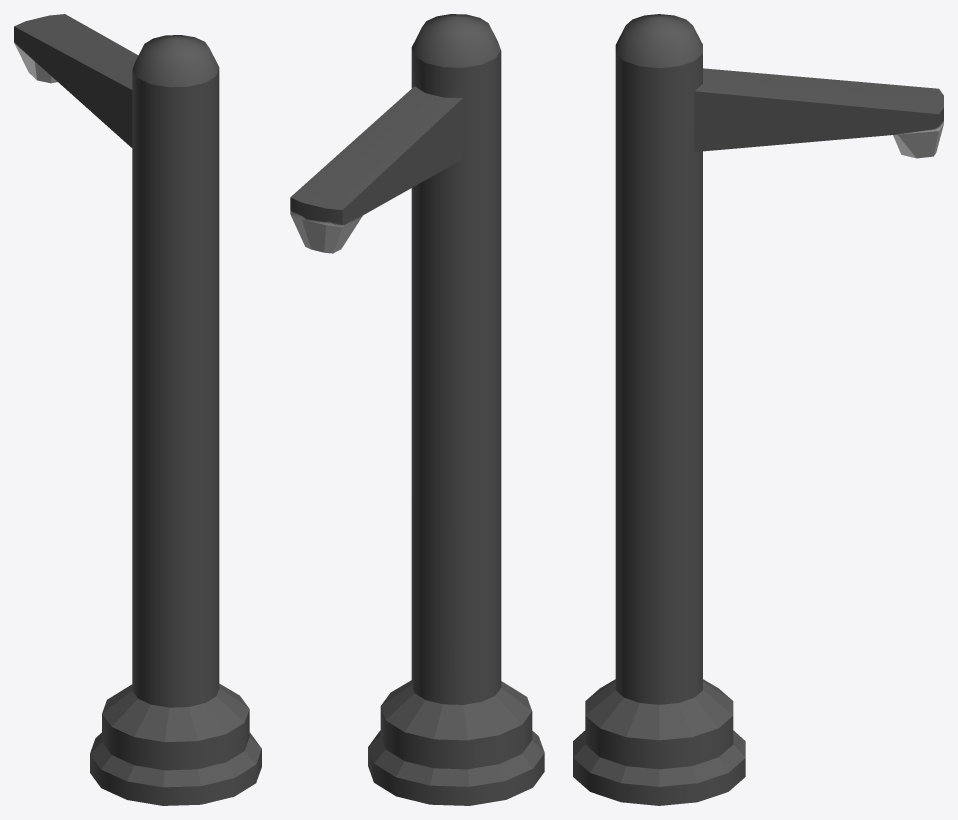
File: Straatlamp.fbx
3 renders of one model, left to right at view 1: azimuth 30°, elevation 25°; view 2: azimuth 150°, elevation 25°; view 3: azimuth 270°, elevation 25°, orthographic. The views are drawn at different scales.
Parts seen in each view (by area): view 1: pCylinder1; view 2: pCylinder1; view 3: pCylinder1.
Part boxes in pixels (left/top/right/bottom): pCylinder1: left=14, top=14, right=261, bottom=805; pCylinder1: left=290, top=14, right=544, bottom=805; pCylinder1: left=573, top=14, right=943, bottom=805.
Bounding box in the file's own units: 2.33 × 10.9 × 4.88.
Materials: 1 (1 with a texture image).
